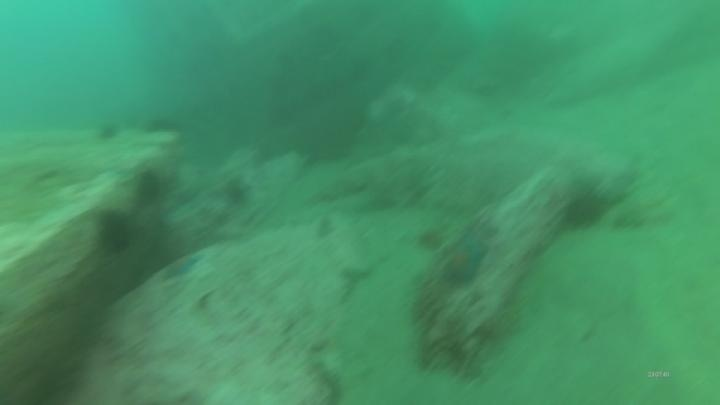echinus: (560, 188, 609, 233), (94, 208, 137, 258), (131, 167, 168, 207), (141, 112, 184, 140), (94, 119, 122, 144)
starfish: (438, 230, 490, 288), (155, 249, 205, 285)
